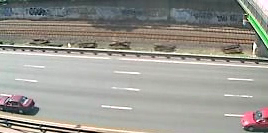car: (1, 93, 39, 117)
